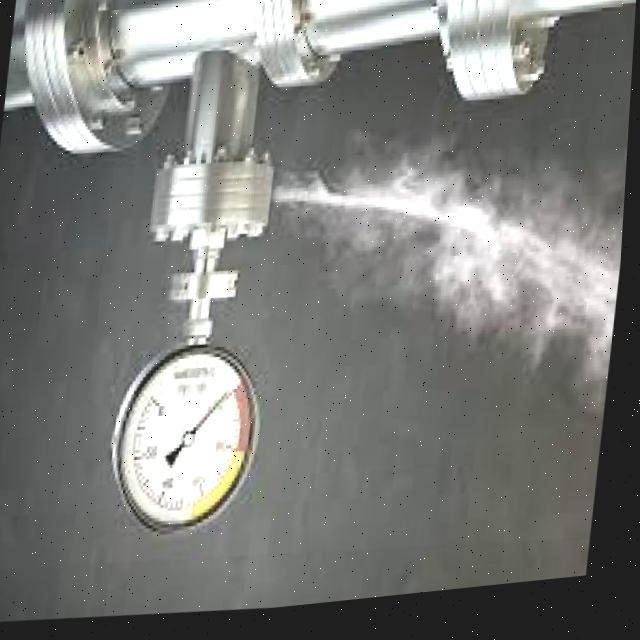corrosion: (229, 70, 509, 299)
